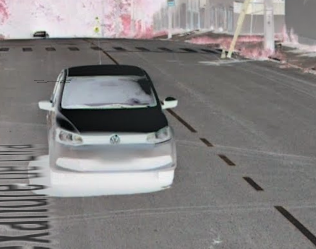car: (37, 37, 183, 192)
